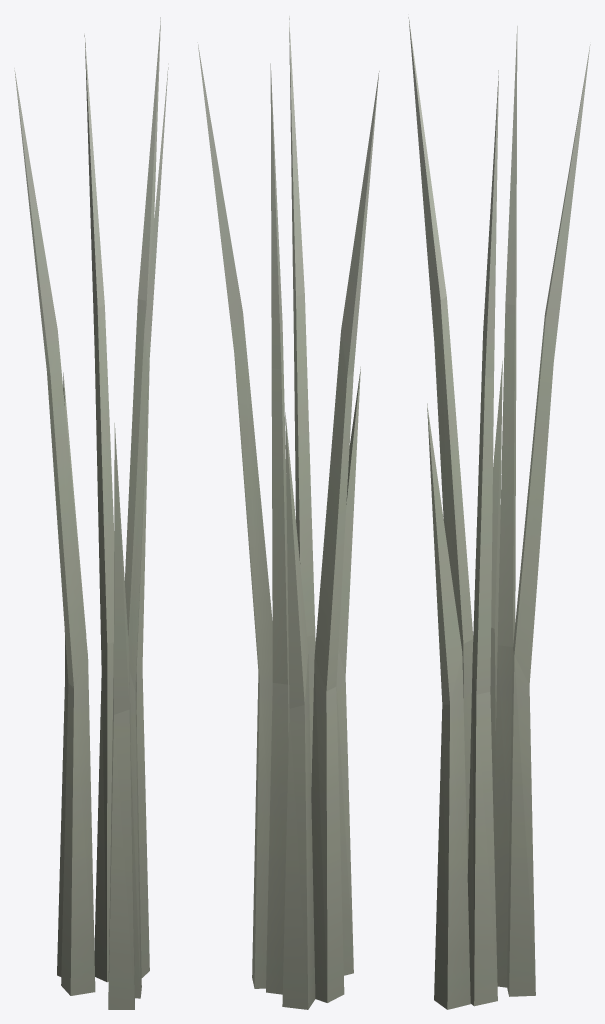
File: grass_reed.glb
3 views of the same model, side by side, from view 1: azimuth 30°, elevation 25°; view 2: azimuth 150°, elevation 25°; view 3: azimuth 330°, elevation 25° (orthographic).
Visible parts, largest first — view 1: GrassHigh_D_1; view 2: GrassHigh_D_1; view 3: GrassHigh_D_1.
Part boxes in pixels (x1=…): GrassHigh_D_1: x1=14, y1=17, x2=168, y2=1009; GrassHigh_D_1: x1=197, y1=16, x2=379, y2=1009; GrassHigh_D_1: x1=408, y1=17, x2=590, y2=1009.
Size of the model in its own units: 0.0824 by 0.45 by 0.0551.
1 material, 1 textured.
